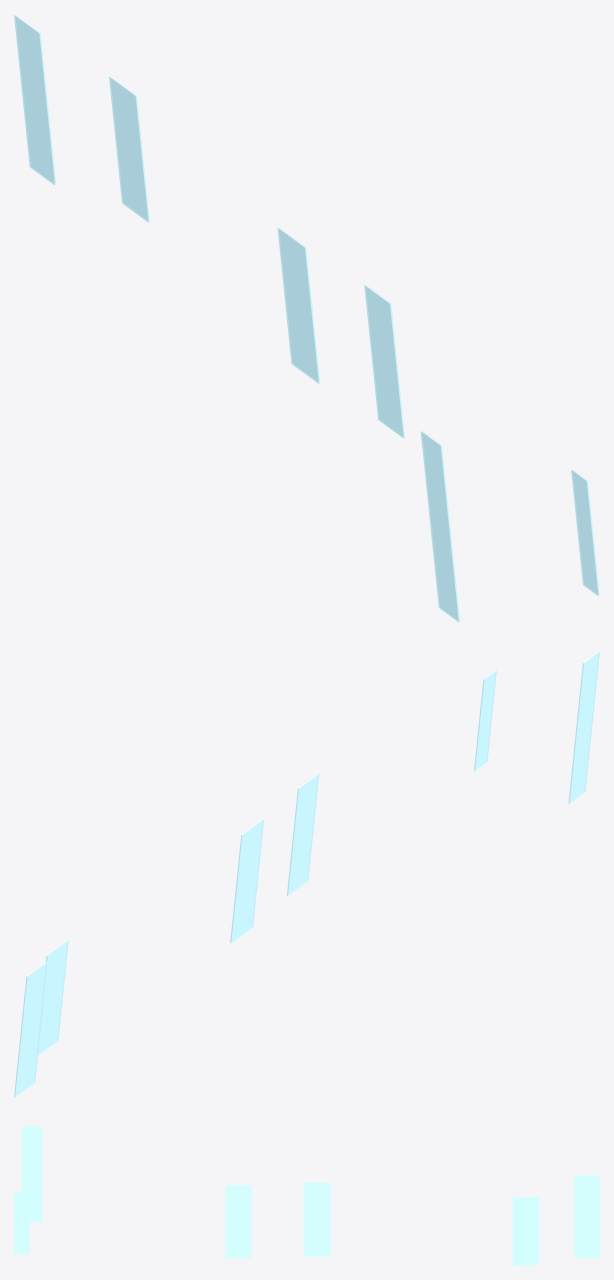
The model's file is Waterfalls.fbx.
3 views of the same model, one above another, from view 1: azimuth 30°, elevation 25°; view 2: azimuth 150°, elevation 25°; view 3: azimuth 270°, elevation 25° (orthographic). The views are drawn at different scales.
Parts seen in each view (by area): view 1: Waterfall0.001; view 2: Waterfall0.001; view 3: Waterfall0.001.
Boxes of the visible parts, left/top/right/bottom form: Waterfall0.001: left=14, top=14, right=599, bottom=622; Waterfall0.001: left=14, top=651, right=599, bottom=1097; Waterfall0.001: left=14, top=1126, right=599, bottom=1265.
Bounding box in the file's own units: 5591 × 4941 × 28669.
